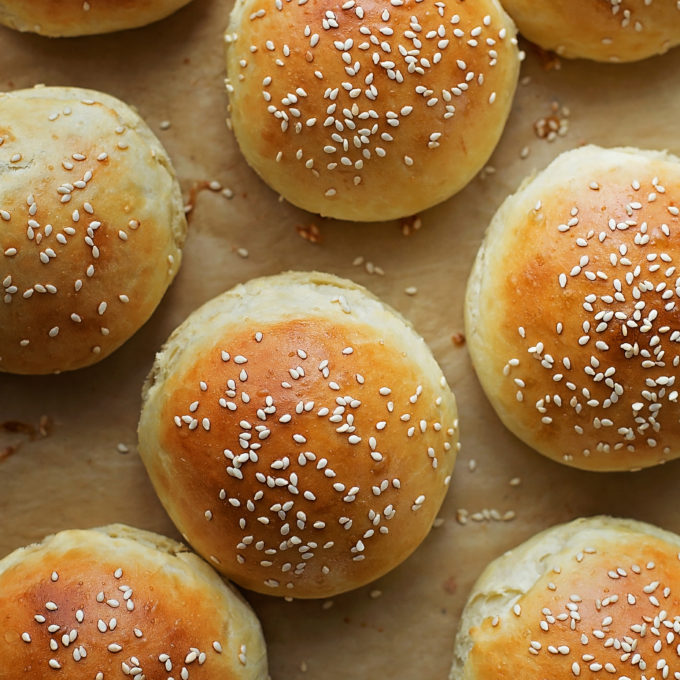hamburger_buns: (108, 266, 464, 624), (222, 1, 563, 223), (457, 144, 674, 491)
